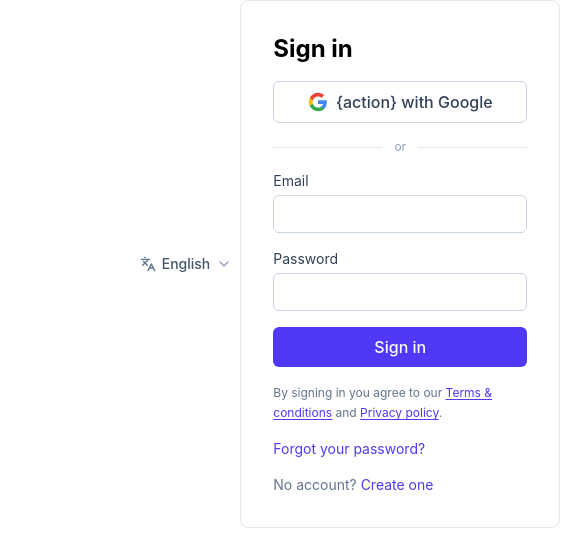
Test: NavLocaleSwitcher › labels itself with the chosen language, by its native name
Click the button with aria-label "Interface language": (186, 264) [132,248,240,280]
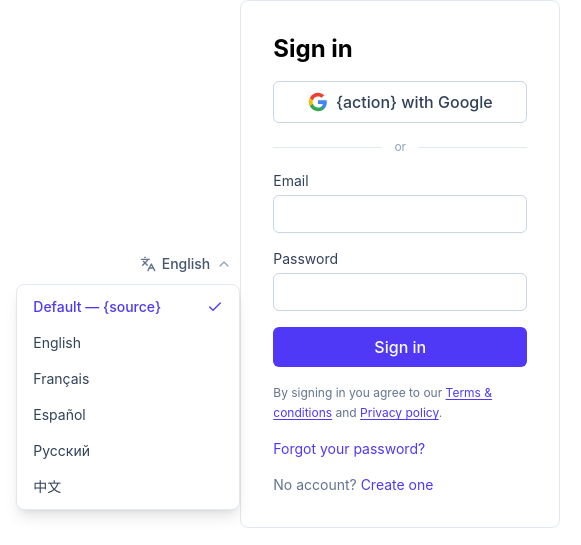
Click the menu item "Français": (128, 379) [21,361,235,397]
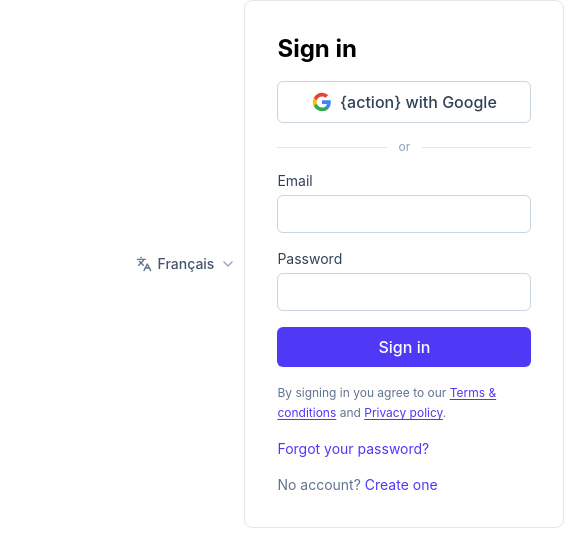
Expected: the button with aria-label "Interface language" reads "Français", [128,248,244,280]
Expected: the menu is gone
